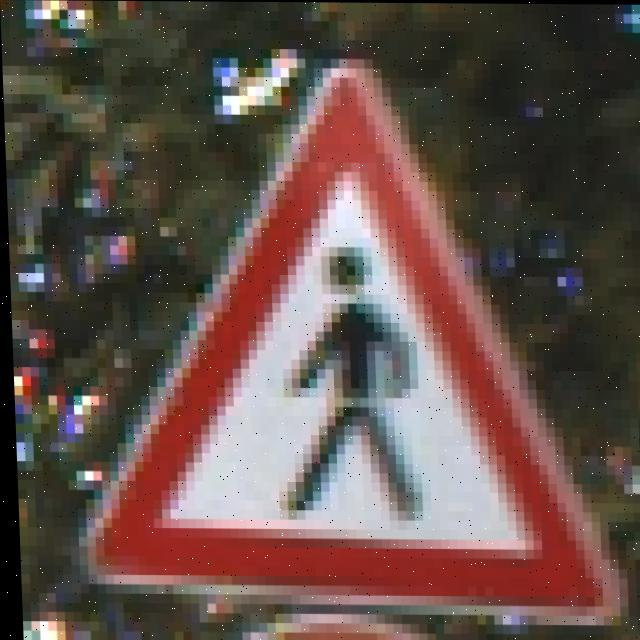crosswalk: (100, 65, 614, 618)
